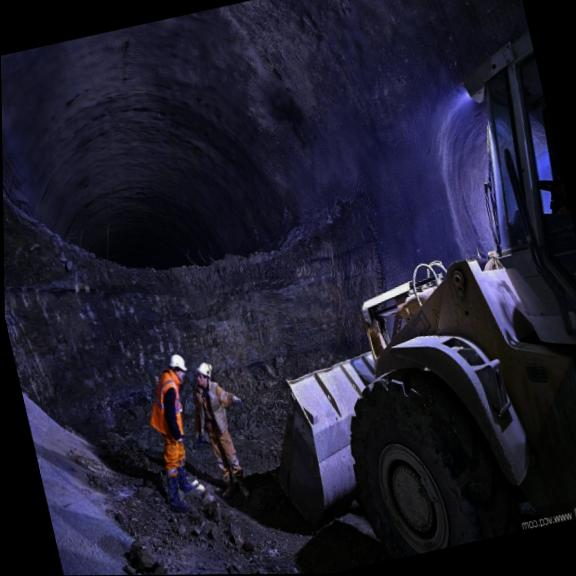no_safety_vest: (185, 372, 249, 466)
safety_vest: (139, 367, 196, 449)
